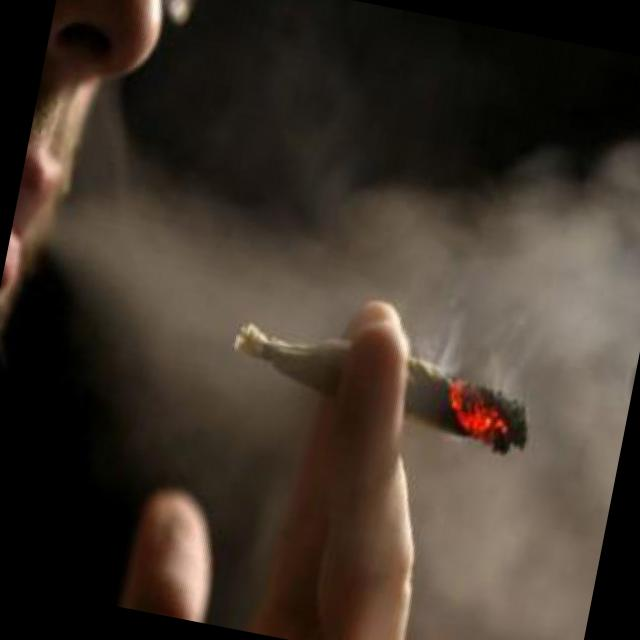fire: (440, 368, 514, 448)
